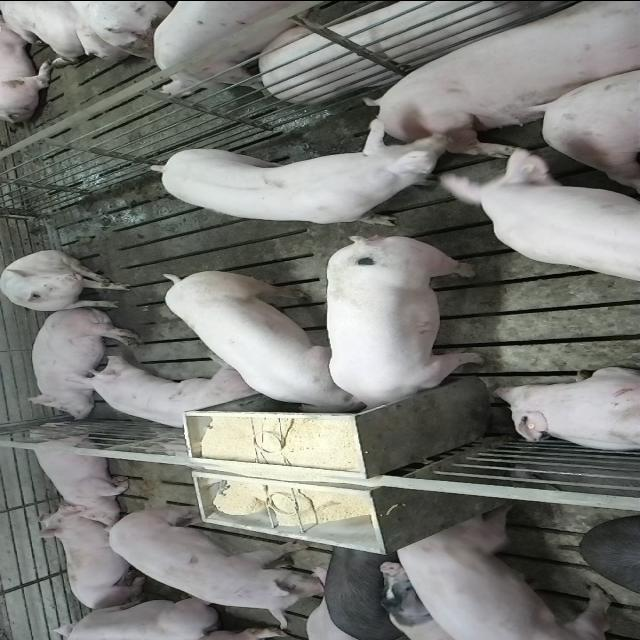Feeding: (160, 264, 362, 412), (325, 240, 485, 417)
Lateral_lying: (361, 4, 636, 160), (257, 0, 599, 102), (24, 306, 140, 419)
Sitting: (2, 250, 134, 312)
Standing: (146, 119, 454, 224), (390, 511, 632, 638), (440, 143, 640, 283), (104, 508, 328, 626), (158, 0, 346, 94), (324, 538, 412, 640)
Sternal_lying: (75, 354, 259, 433), (490, 365, 640, 452), (36, 505, 152, 612), (20, 424, 134, 517)
